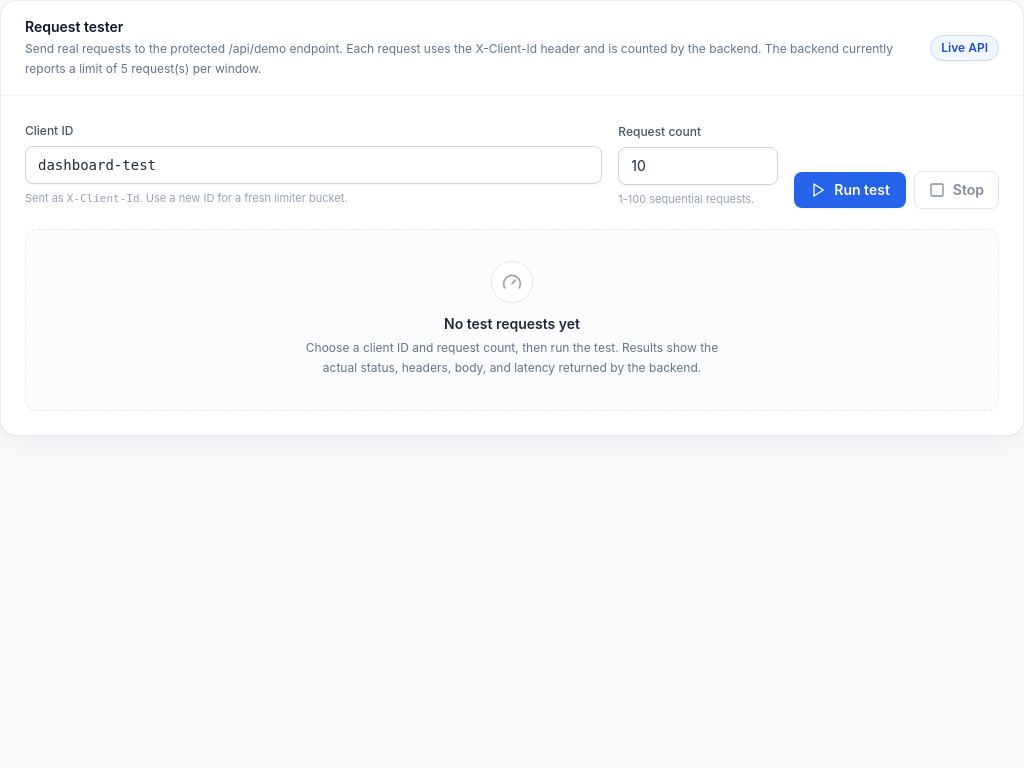
RequestTester › rejects invalid inputs before sending requests
Replace the text in the field labelled "Client ID" with "invalid client id". click: (314, 165)
box: [25,146,602,184]
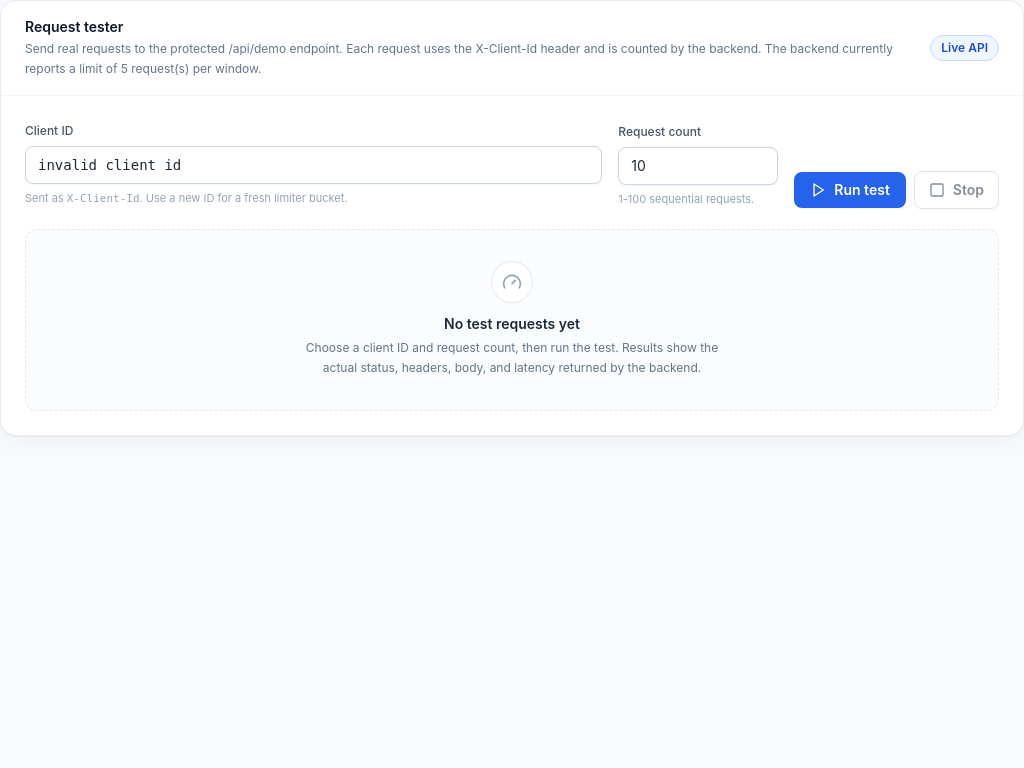
Replace the text in the number field labelled "Request count" with "0". click: (698, 166)
box: [618,147,778,185]
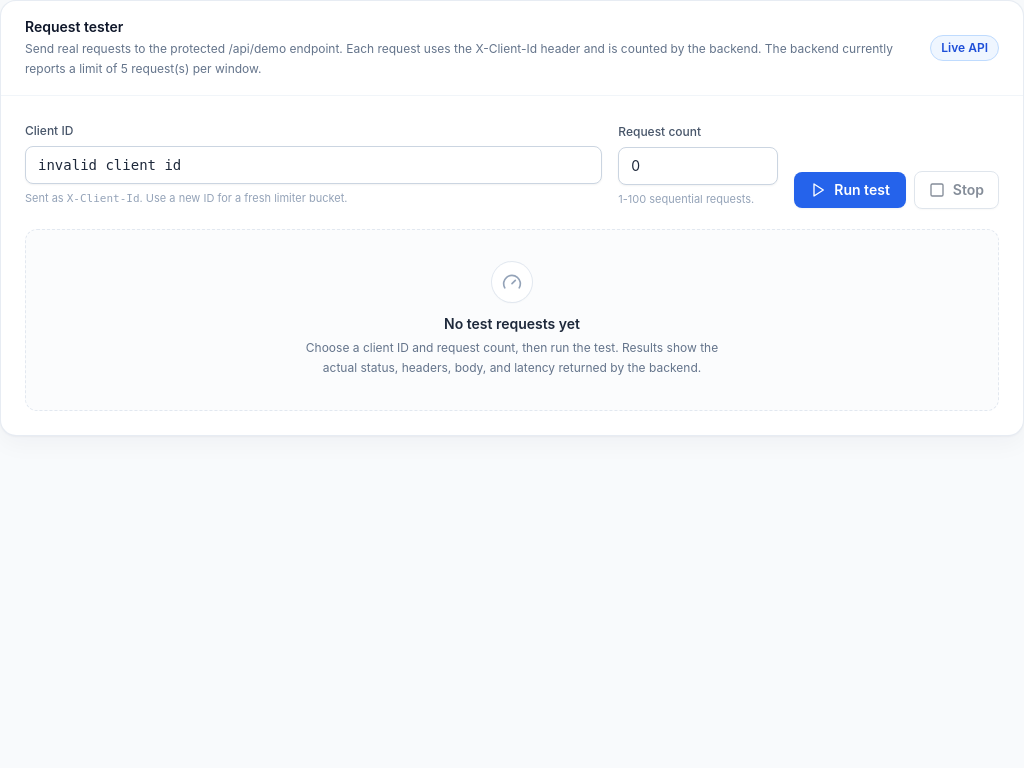
Click the button "Run test". click: (850, 190)
box: [794,172,906,208]
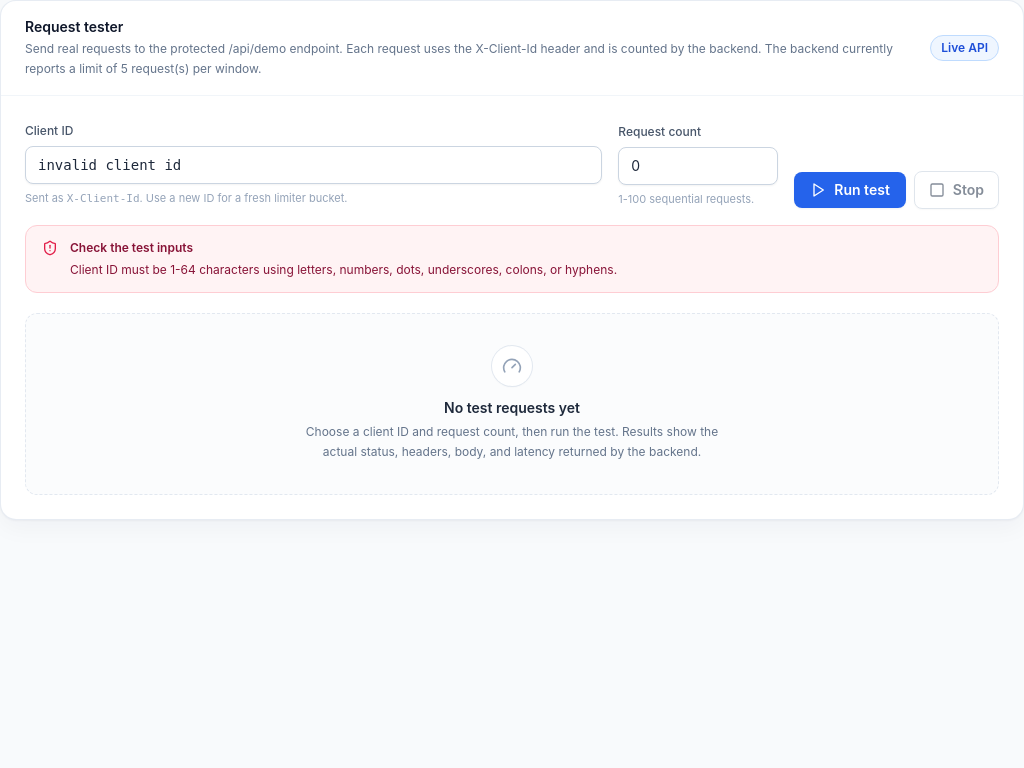
Now the text "Check the test inputs" is shown, box [70,240,193,255]
Now the text "Client ID must be 1-64 characters" is shown, box [70,262,617,277]
